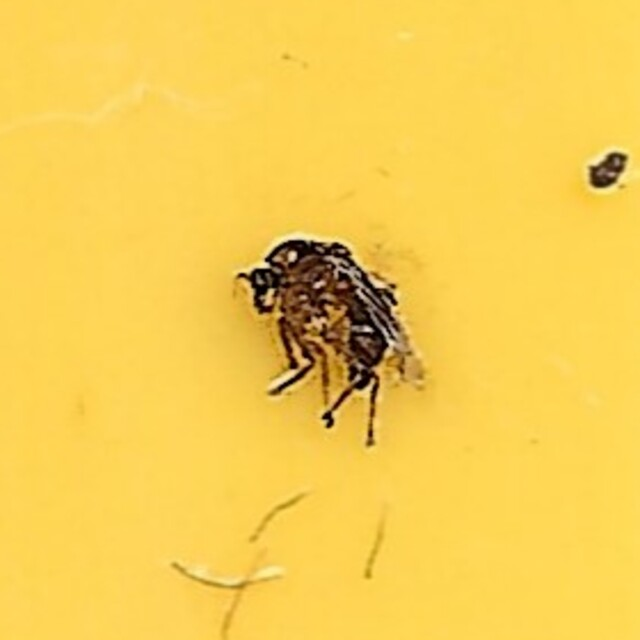Nematocera: (229, 218, 411, 422)
